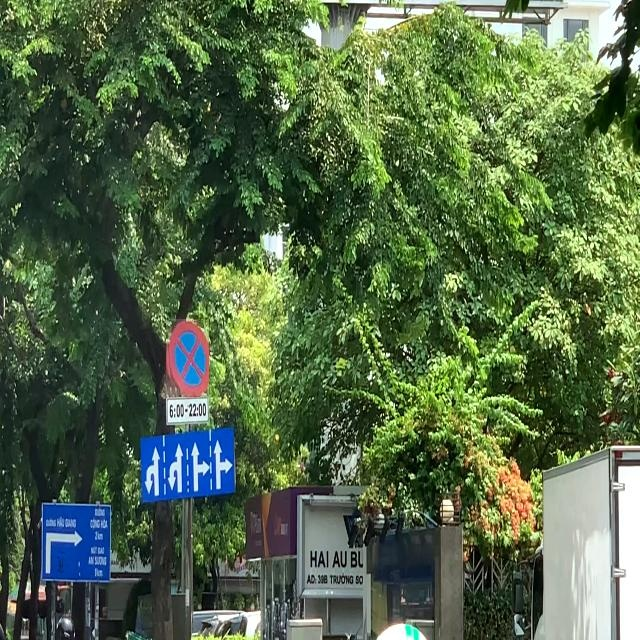bien_cam: (166, 319, 209, 397)
